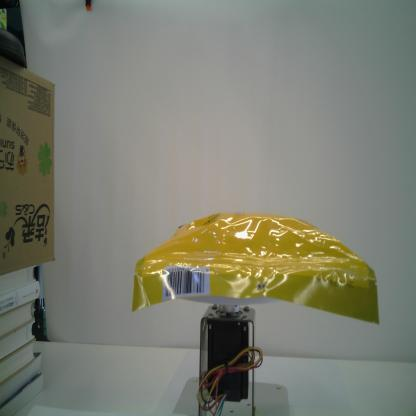Dried Food: (129, 209, 383, 326)
